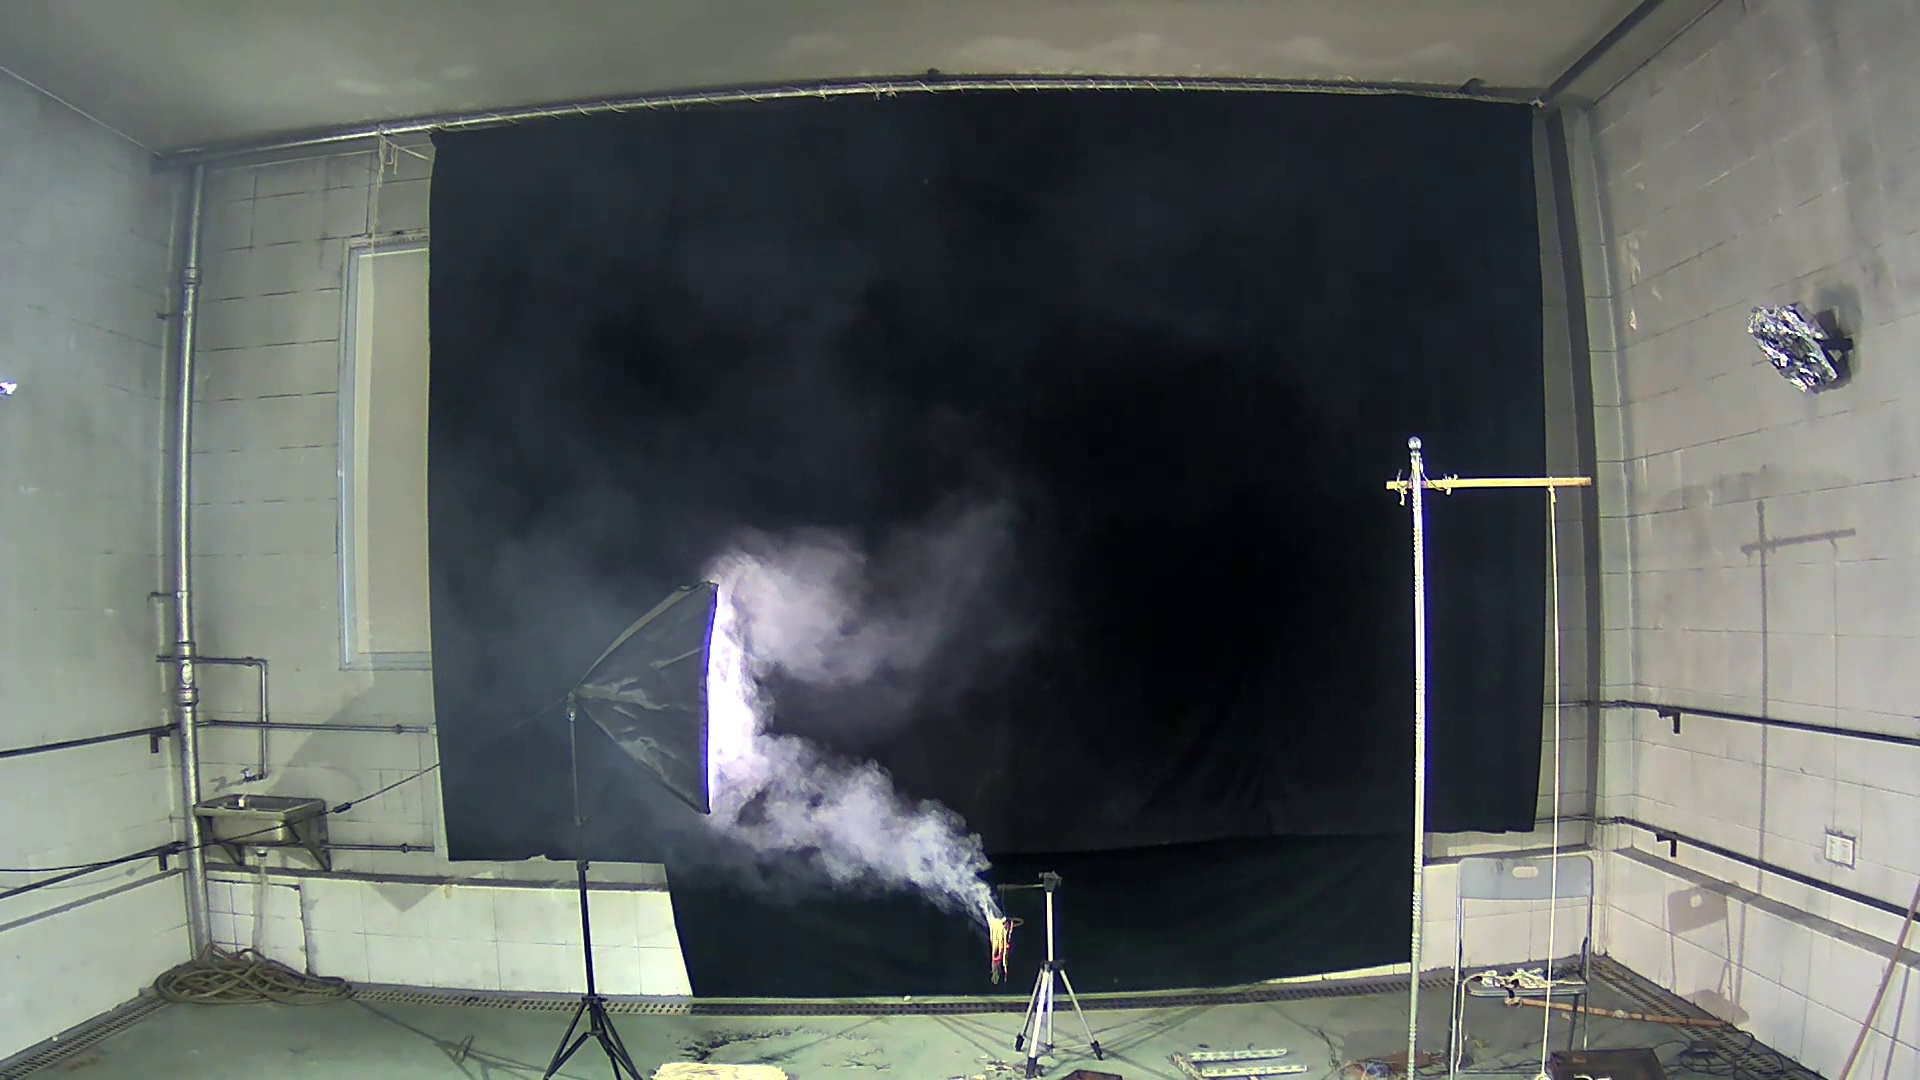smoke: (723, 384, 1058, 911)
